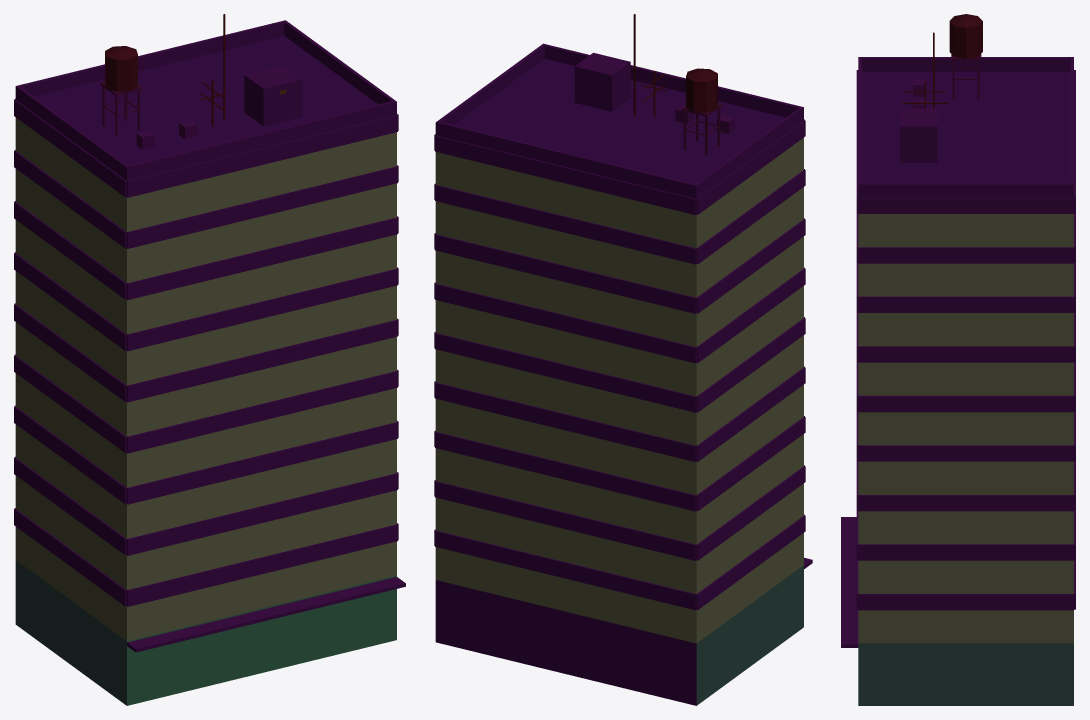
File: commercial_b.glb
3 renders of one model, left to right at view 1: azimuth 30°, elevation 25°; view 2: azimuth 150°, elevation 25°; view 3: azimuth 270°, elevation 25°, orthographic. The views are drawn at different scales.
Visible parts, largest first — view 1: commercial_b; view 2: commercial_b; view 3: commercial_b.
Part boxes in pixels (left/top/right/bottom): commercial_b: left=14, top=14, right=405, bottom=705; commercial_b: left=434, top=14, right=812, bottom=705; commercial_b: left=841, top=14, right=1075, bottom=705.
Bounding box in the file's own units: 21.24 × 46.79 × 16.32.
